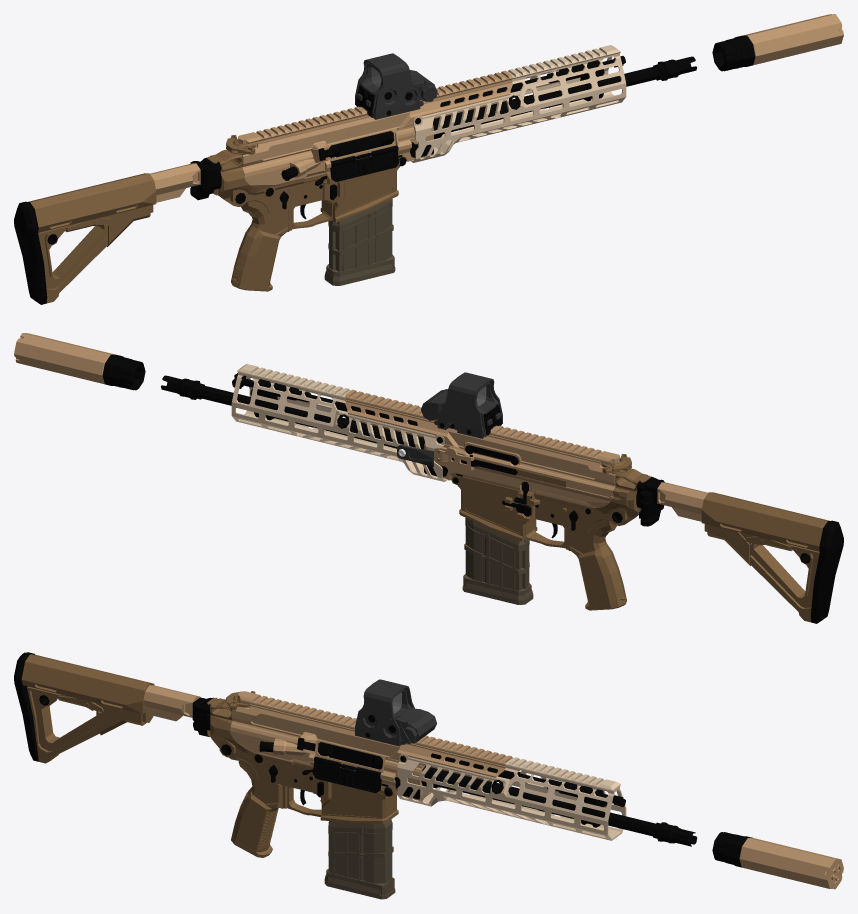
The model's file is spear.glb.
3 renders of one model, top to bottom at view 1: azimuth 30°, elevation 25°; view 2: azimuth 150°, elevation 25°; view 3: azimuth 330°, elevation 25°, orthographic.
Visible parts, largest first — view 1: sig mcx spear_15, mcx srock butt_13, 277 ar-10 mag 30rnd (lancer).001_1, 6.8 slx suppressor_19, eotech xps2_18, sig mcx spear.001_20, mcx srock tube_11, mcx spear shutter_4, mcx bolt carrier_3, mcx stock base_12, mcx muzzle brake&sup adapter_14; view 2: sig mcx spear_15, mcx srock butt_13, 277 ar-10 mag 30rnd (lancer).001_1, 6.8 slx suppressor_19, eotech xps2_18, sig mcx spear.001_20, mcx srock tube_11, mcx reload handle base_16, mcx muzzle brake&sup adapter_14, mcx stock base_12; view 3: sig mcx spear_15, mcx srock butt_13, 277 ar-10 mag 30rnd (lancer).001_1, 6.8 slx suppressor_19, eotech xps2_18, sig mcx spear.001_20, mcx srock tube_11, mcx spear shutter_4, mcx bolt carrier_3, mcx muzzle brake&sup adapter_14, mcx stock base_12.
Part boxes in pixels (<box>): sig mcx spear_15: <box>207,45,659,289</box>; mcx srock butt_13: <box>14,173,156,304</box>; 277 ar-10 mag 30rnd (lancer).001_1: <box>324,156,395,285</box>; 6.8 slx suppressor_19: <box>712,14,843,71</box>; eotech xps2_18: <box>355,53,437,119</box>; sig mcx spear.001_20: <box>231,201,289,291</box>; mcx srock tube_11: <box>150,161,209,202</box>; mcx spear shutter_4: <box>330,145,399,181</box>; mcx bolt carrier_3: <box>329,83,520,158</box>; mcx stock base_12: <box>190,156,221,200</box>; mcx muzzle brake&sup adapter_14: <box>653,56,696,80</box>; sig mcx spear_15: <box>198,364,650,608</box>; mcx srock butt_13: <box>701,492,843,623</box>; 277 ar-10 mag 30rnd (lancer).001_1: <box>462,518,533,604</box>; 6.8 slx suppressor_19: <box>14,333,145,390</box>; eotech xps2_18: <box>421,372,502,438</box>; sig mcx spear.001_20: <box>568,520,626,610</box>; mcx srock tube_11: <box>639,479,707,521</box>; mcx reload handle base_16: <box>451,458,566,486</box>; mcx muzzle brake&sup adapter_14: <box>161,375,204,399</box>; mcx stock base_12: <box>636,475,664,526</box>; sig mcx spear_15: <box>207,691,655,857</box>; mcx srock butt_13: <box>14,652,154,763</box>; 277 ar-10 mag 30rnd (lancer).001_1: <box>324,819,395,899</box>; 6.8 slx suppressor_19: <box>712,832,843,889</box>; eotech xps2_18: <box>355,679,436,746</box>; sig mcx spear.001_20: <box>231,758,282,857</box>; mcx srock tube_11: <box>143,685,210,726</box>; mcx spear shutter_4: <box>313,756,394,793</box>; mcx bolt carrier_3: <box>318,742,520,779</box>; mcx muzzle brake&sup adapter_14: <box>653,822,697,846</box>; mcx stock base_12: <box>193,697,218,736</box>.
Bounding box in the file's own units: 11.66 × 2.84 × 0.6668.
